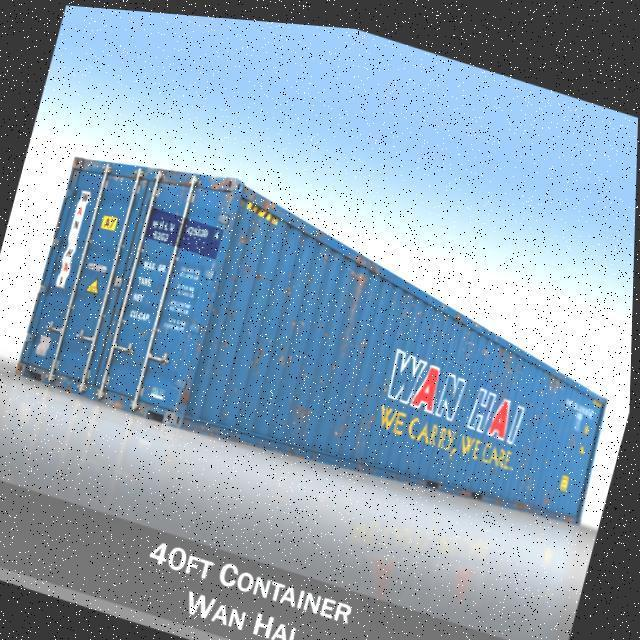container_number_h: (145, 204, 224, 256)
